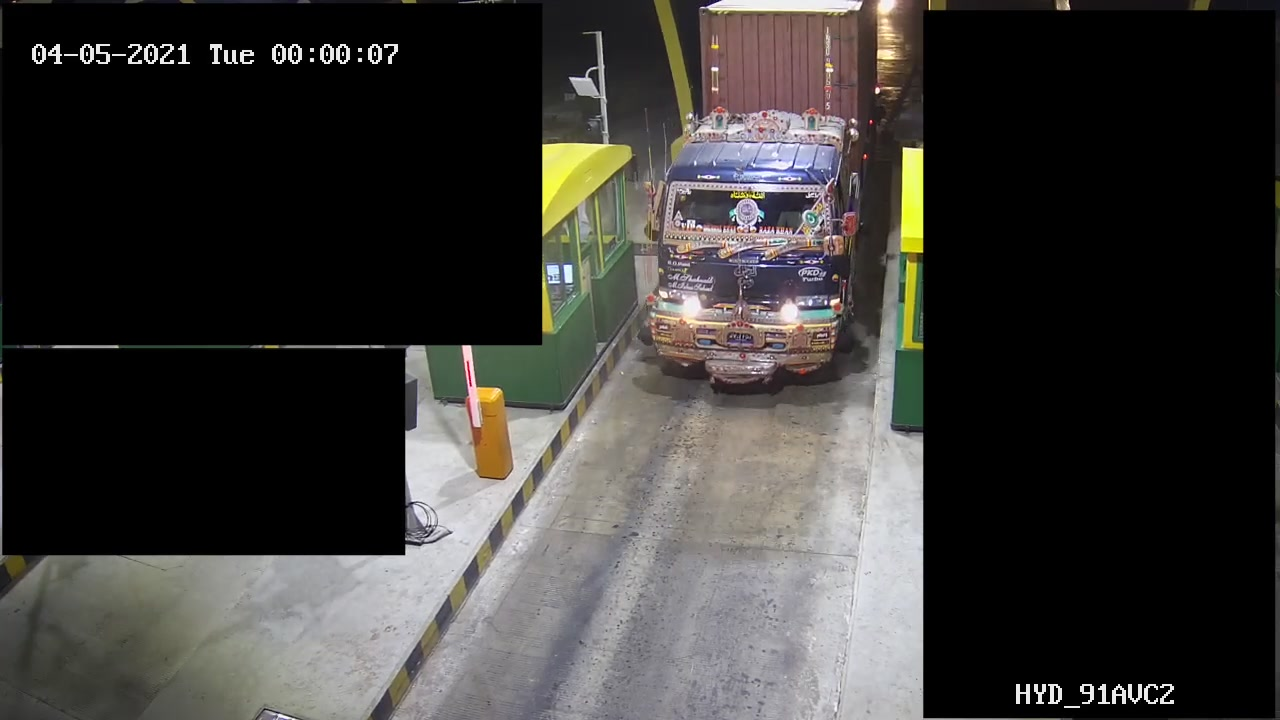F6: (630, 1, 876, 395)
